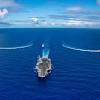tau_muctieu: (28, 51, 55, 81)
